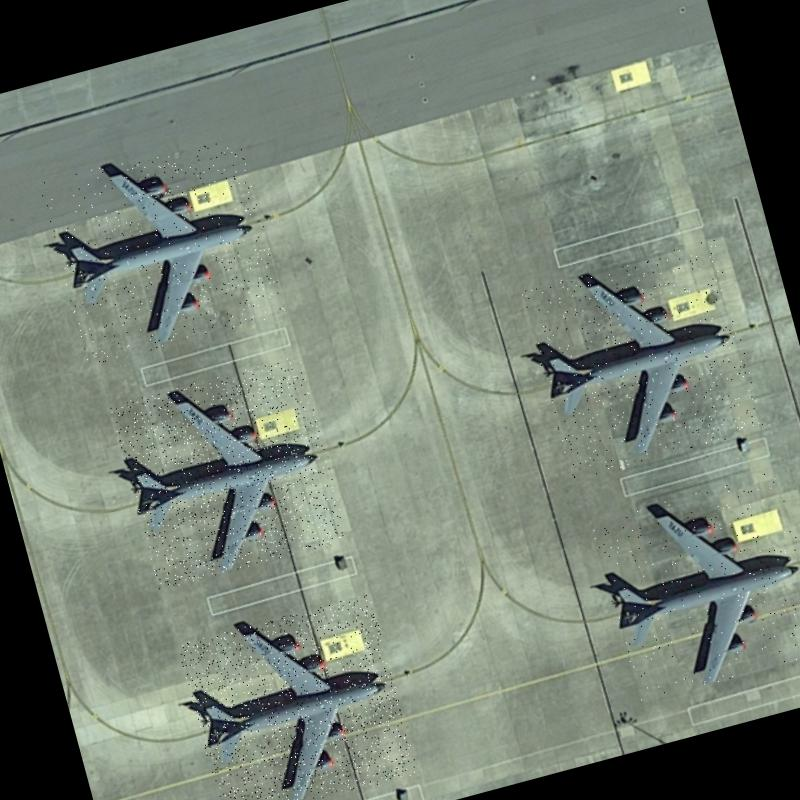A14: (520, 239, 764, 480), (38, 130, 286, 367), (110, 355, 349, 590), (176, 592, 418, 800), (588, 469, 800, 702)
